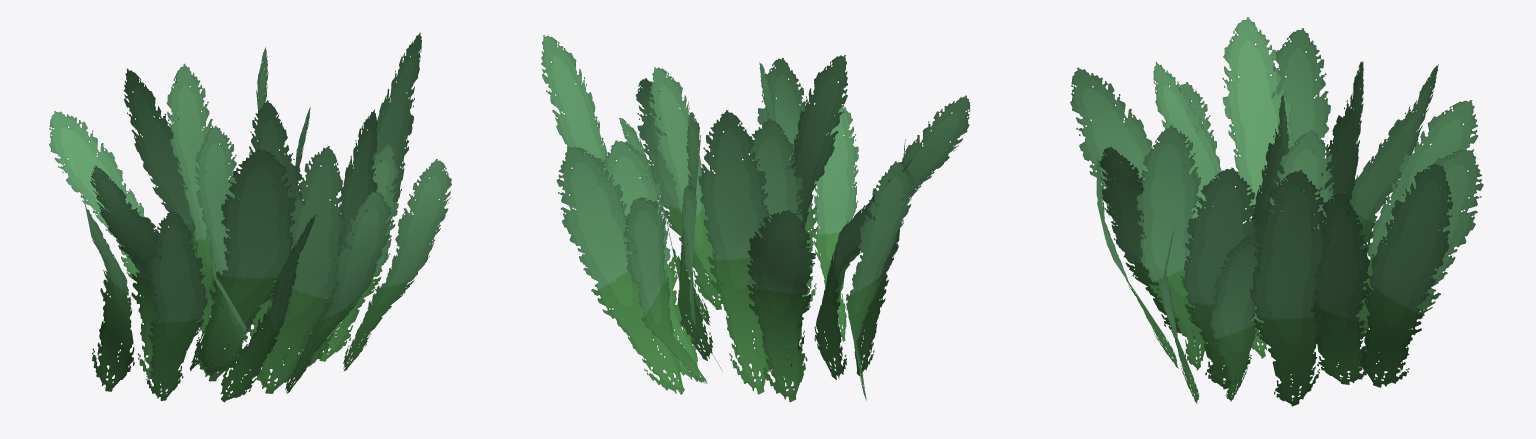
Rendered from Green Algae 1_preview_3DS_simplified.glb.
The picture shows the model from 3 angles, left to right: view 1: azimuth 30°, elevation 25°; view 2: azimuth 150°, elevation 25°; view 3: azimuth 270°, elevation 25°; orthographic projection. The views are drawn at different scales.
Parts seen in each view (by area): view 1: Marine Park Empire model; view 2: Marine Park Empire model; view 3: Marine Park Empire model.
Boxes of the visible parts, x1,y1,x2,y2 form: Marine Park Empire model: (49,32,451,402); Marine Park Empire model: (541,35,970,402); Marine Park Empire model: (1070,17,1483,406).
Size of the model in its own units: 28.55 by 21.87 by 29.78.
Materials: 1 (1 with a texture image).
